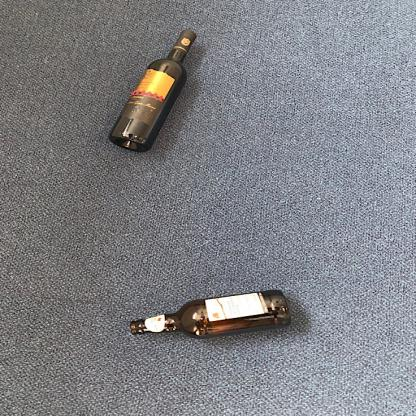trash: (111, 28, 205, 154), (126, 289, 302, 339)
